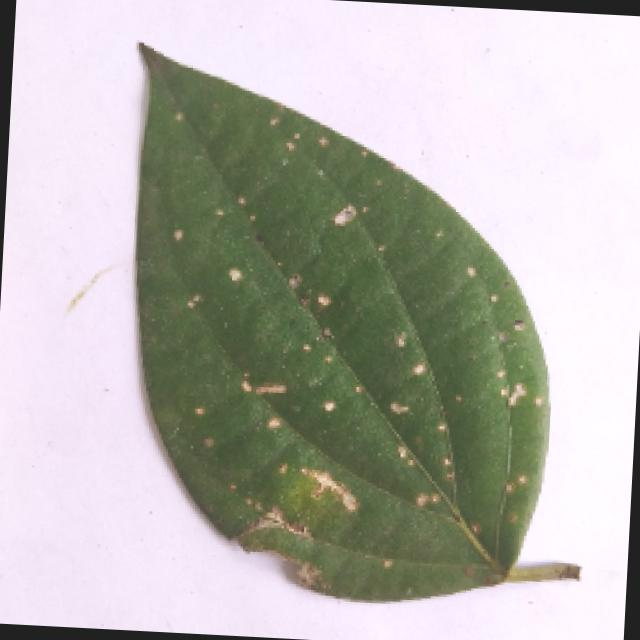pollu-disease: (106, 37, 589, 608)
